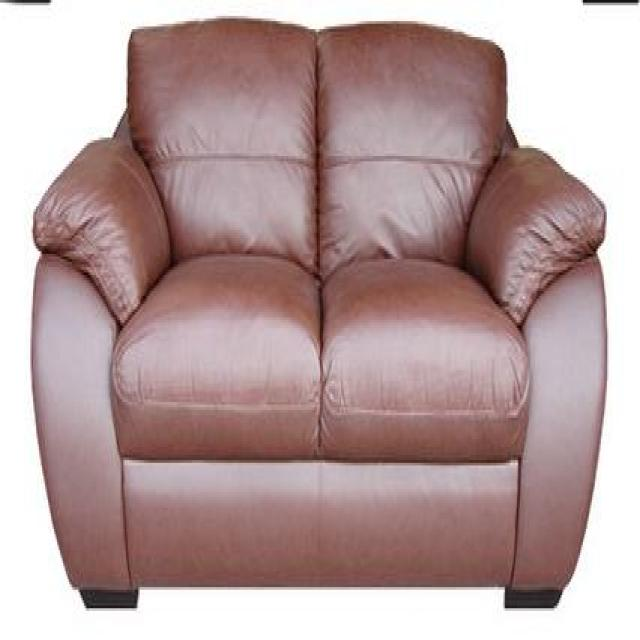sofa: (29, 13, 605, 610)
